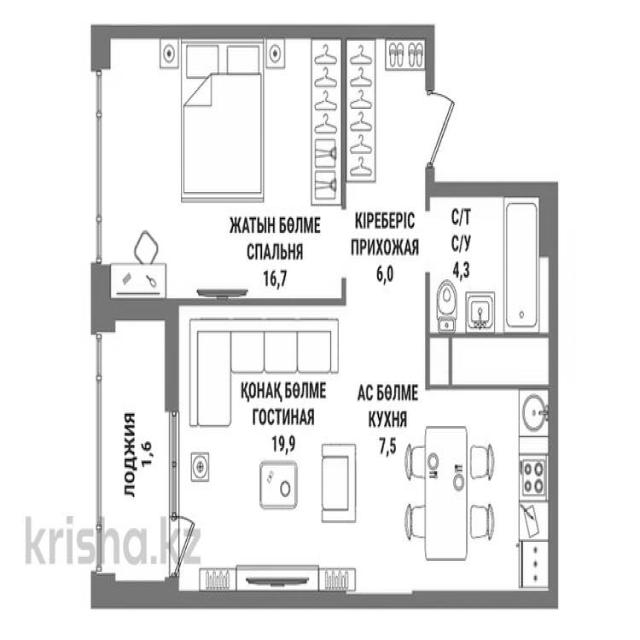balcony: (91, 308, 175, 612)
bathroom: (429, 194, 556, 337)
hallway: (346, 30, 424, 302)
living_room: (98, 39, 345, 300)
studio: (172, 303, 557, 605)
